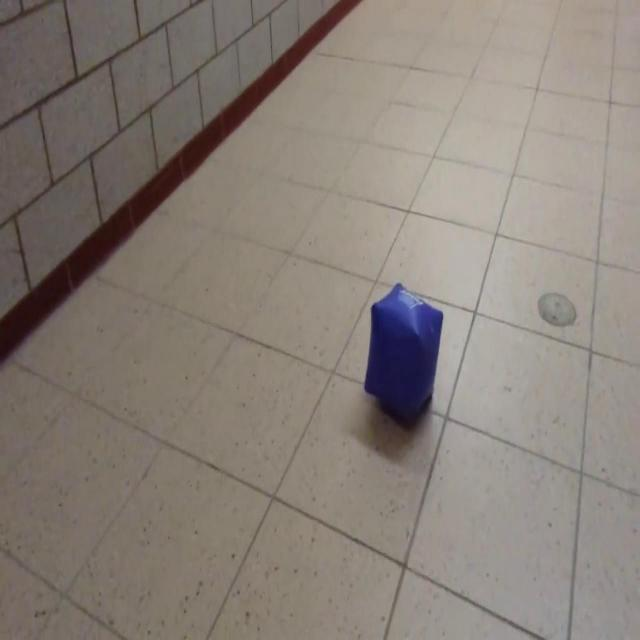frc_cube: (362, 278, 446, 428)
